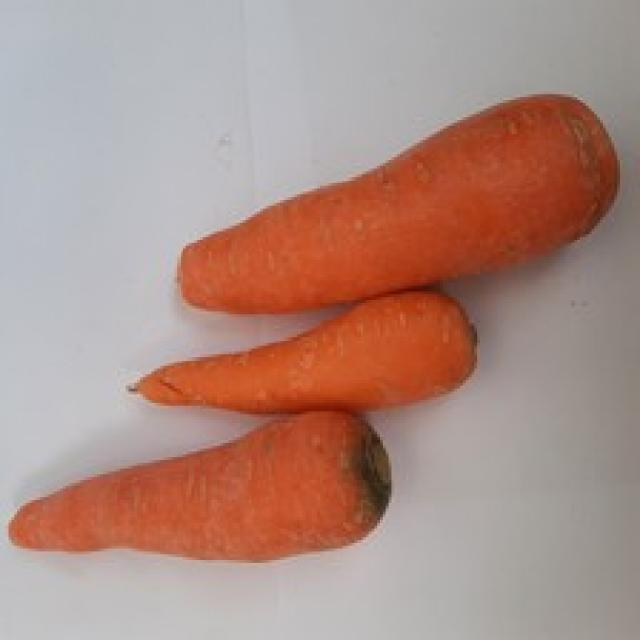carrot: (147, 82, 624, 313), (9, 400, 396, 583), (121, 274, 486, 410)
